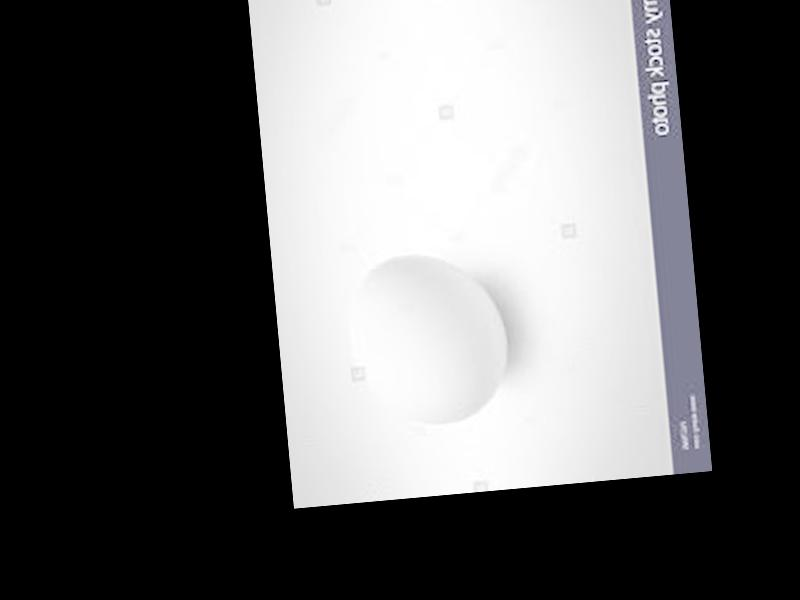Eggs: (346, 249, 514, 433)
